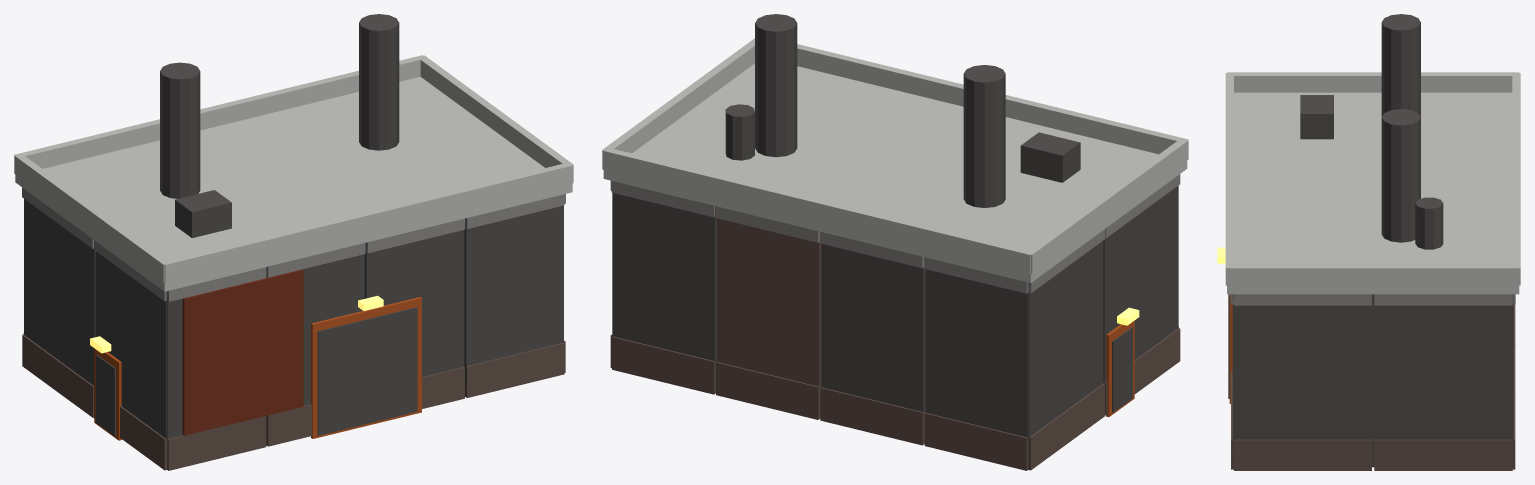
The model's file is B_generator_house.glb.
The picture shows the model from 3 angles, left to right: view 1: azimuth 30°, elevation 25°; view 2: azimuth 150°, elevation 25°; view 3: azimuth 270°, elevation 25°; orthographic projection. The views are drawn at different scales.
Parts seen in each view (by area): view 1: Cube.045, Cube.036, Cube.009, Cube.040, Cube.027, Cube.046, Cube.006, Cube.024, Cube.047, Cylinder, Cylinder.001, Cube.003 (+19 smaller); view 2: Cube.045, Cube.021, Cube.018, Cube.015, Cube.012, Cube.027, Cube.047, Cube.024, Cube.046, Cylinder, Cylinder.001, Cube.048 (+17 smaller); view 3: Cube.045, Cube.033, Cube.030, Cube.049, Cube.048, Cylinder, Cube.034, Cube.031, Cylinder.001, Cube.046, Cube.047, Cube.035 (+7 smaller).
Part boxes in pixels (x1,y1,x2,y2): Cube.045: [15, 76, 572, 291]; Cube.036: [182, 269, 303, 435]; Cube.009: [464, 205, 563, 394]; Cube.040: [317, 307, 417, 435]; Cube.027: [24, 199, 95, 385]; Cube.046: [162, 162, 573, 282]; Cube.006: [364, 230, 464, 376]; Cube.024: [95, 251, 167, 469]; Cube.047: [15, 55, 426, 168]; Cylinder: [359, 14, 399, 150]; Cylinder.001: [160, 62, 200, 198]; Cube.003: [266, 254, 364, 445]; Cube.045: [603, 63, 1187, 282]; Cube.021: [612, 193, 716, 393]; Cube.018: [717, 218, 821, 417]; Cube.015: [821, 243, 925, 411]; Cube.012: [925, 269, 1028, 437]; Cube.027: [1028, 241, 1103, 468]; Cube.047: [602, 147, 1033, 273]; Cube.024: [1103, 185, 1178, 383]; Cube.046: [797, 44, 1188, 154]; Cylinder: [755, 14, 797, 157]; Cylinder.001: [963, 65, 1005, 207]; Cube.048: [1025, 138, 1188, 273]; Cube.045: [1227, 92, 1519, 294]; Cube.033: [1374, 305, 1512, 439]; Cube.030: [1234, 305, 1371, 439]; Cube.049: [1227, 264, 1519, 285]; Cube.048: [1227, 72, 1519, 92]; Cylinder: [1381, 109, 1420, 242]; Cube.034: [1374, 439, 1512, 470]; Cube.031: [1234, 439, 1371, 470]; Cylinder.001: [1381, 14, 1420, 116]; Cube.046: [1225, 73, 1233, 285]; Cube.047: [1512, 73, 1520, 285]; Cube.035: [1374, 294, 1512, 305].
Size of the model in its own units: 16.8 by 12.1 by 10.8.
